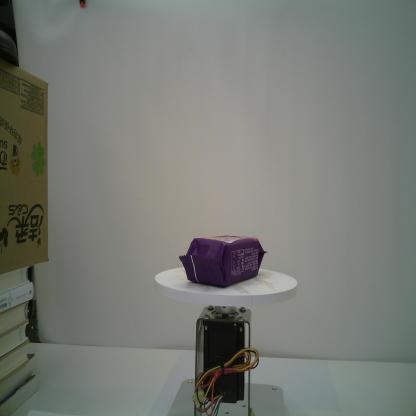Dessert: (178, 235, 268, 288)
